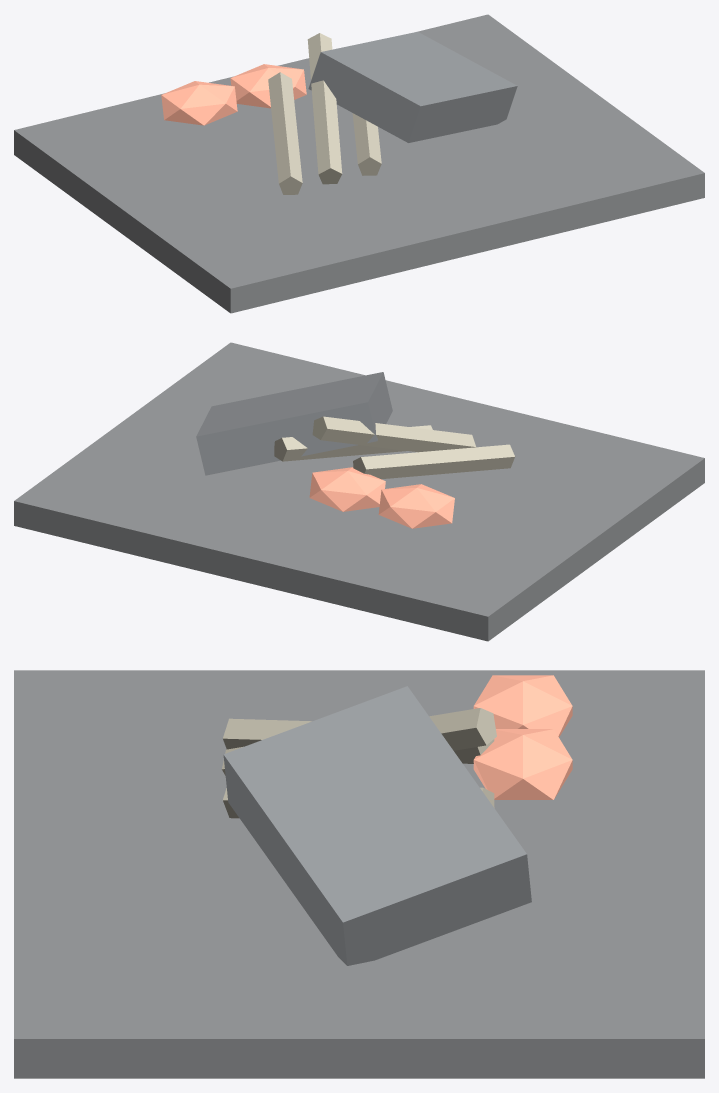
Rendered from gravewood_zombie_remains.lod1.glb.
3 views of the same model, one above another, from view 1: azimuth 30°, elevation 25°; view 2: azimuth 150°, elevation 25°; view 3: azimuth 270°, elevation 25° (orthographic). The views are drawn at different scales.
Size of the model in its own units: 2.4 by 0.5759 by 1.9.
